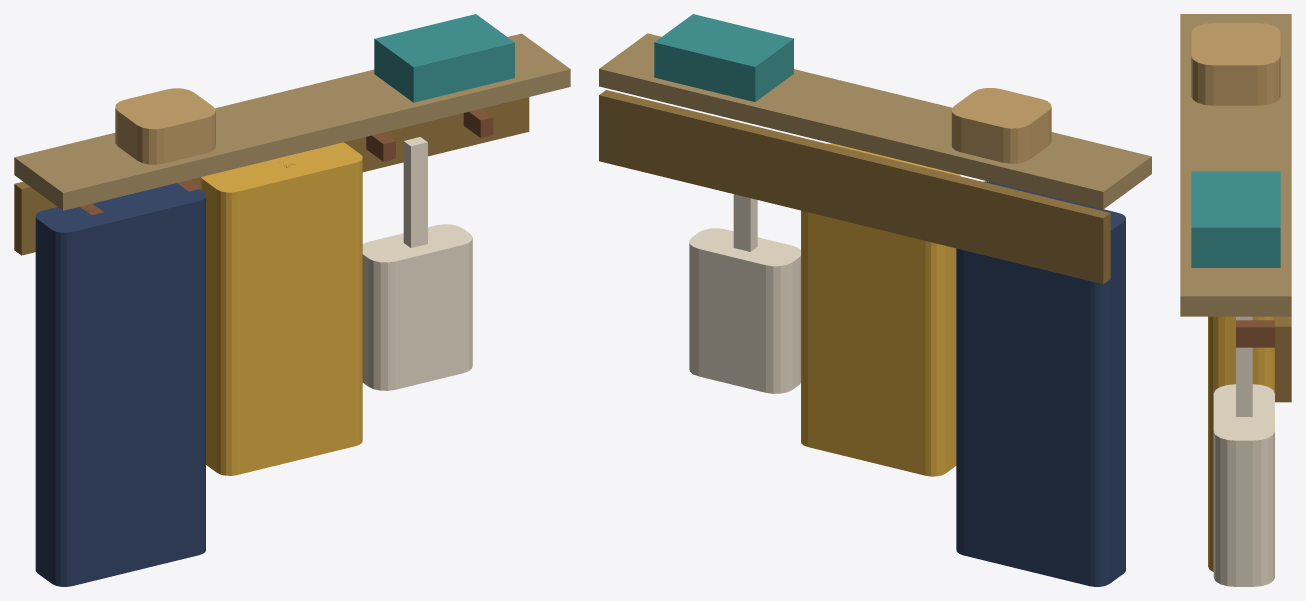
File: wall_hanger.glb
The picture shows the model from 3 angles, left to right: view 1: azimuth 30°, elevation 25°; view 2: azimuth 150°, elevation 25°; view 3: azimuth 270°, elevation 25°; orthographic projection. The views are drawn at different scales.
Visible parts, largest first — view 1: wall_hanger_Body; view 2: wall_hanger_Body; view 3: wall_hanger_Body.
Boxes of the visible parts, left/top/right/bottom form: wall_hanger_Body: left=14, top=14, right=570, bottom=586; wall_hanger_Body: left=599, top=14, right=1151, bottom=586; wall_hanger_Body: left=1180, top=14, right=1291, bottom=586.
Size of the model in its own units: 1.2 by 1 by 0.2.
